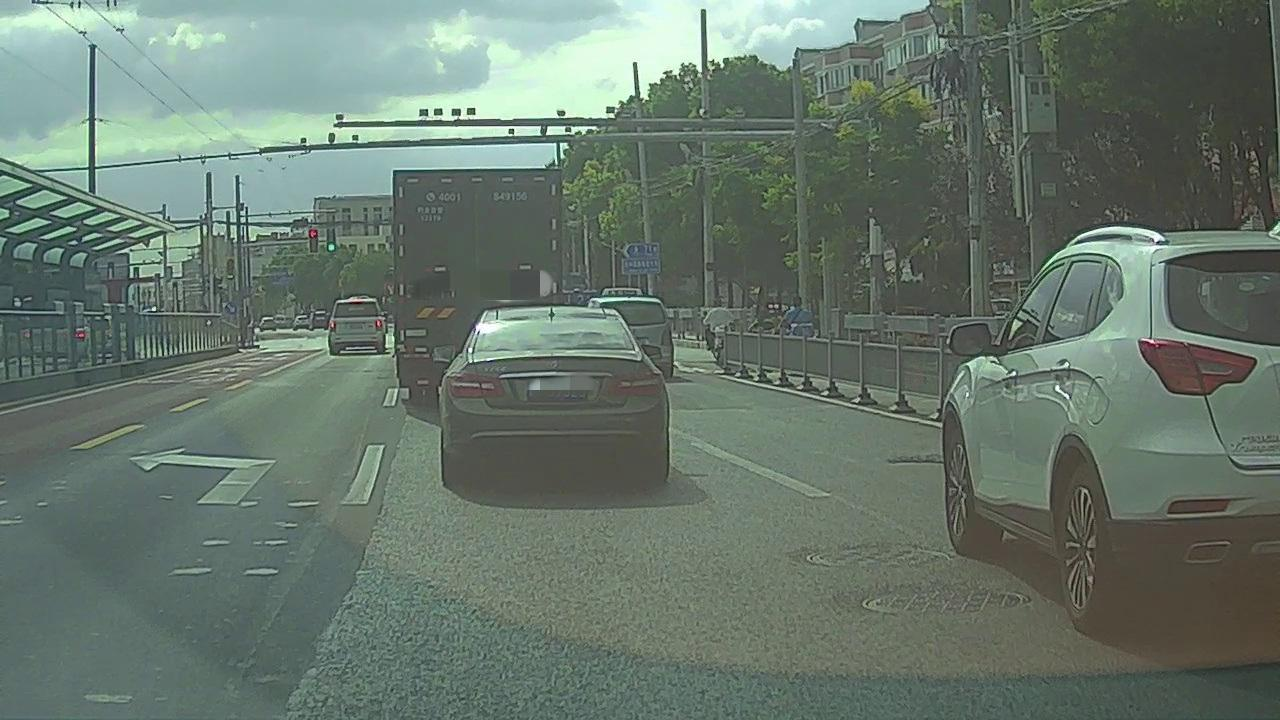traffic_light: (326, 227, 336, 252), (308, 228, 318, 252)
